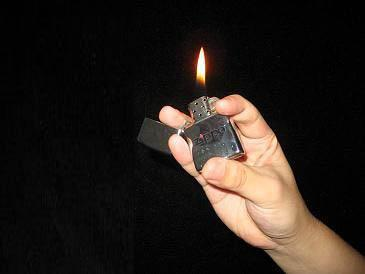fire: (191, 43, 219, 102)
